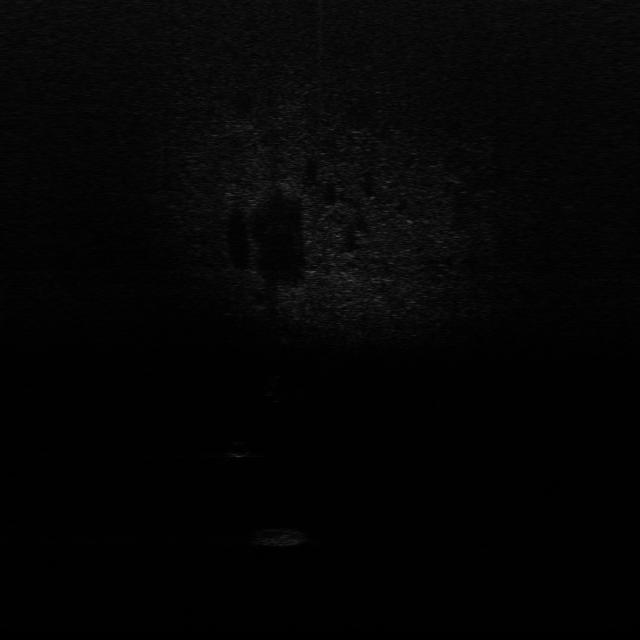ball: (223, 438, 253, 462)
circle cage: (254, 523, 316, 549)
human body: (262, 371, 288, 411)
